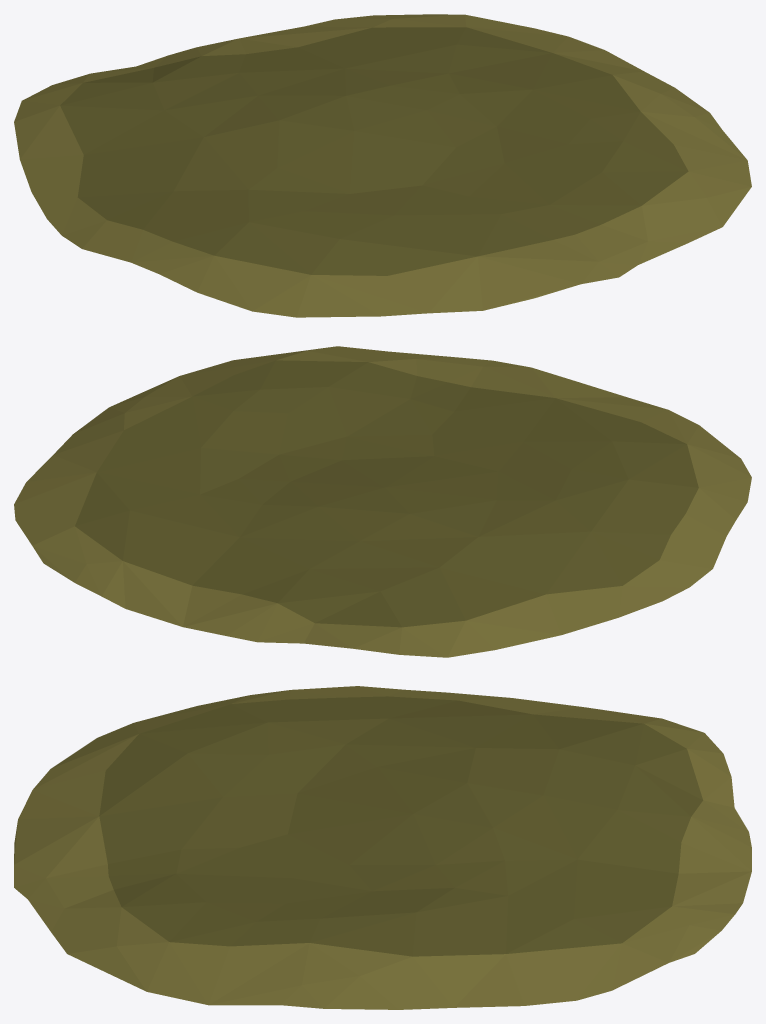
File: EA_M_Env_Grass_06a.fbx
3 views of the same model, one above another, from view 1: azimuth 30°, elevation 25°; view 2: azimuth 150°, elevation 25°; view 3: azimuth 270°, elevation 25° (orthographic). The views are drawn at different scales.
Visible parts, largest first — view 1: EA_M_Env_Grass_06a_LOD0; view 2: EA_M_Env_Grass_06a_LOD0; view 3: EA_M_Env_Grass_06a_LOD0.
Part boxes in pixels (bbox=[...]): EA_M_Env_Grass_06a_LOD0: bbox=[14, 14, 751, 317]; EA_M_Env_Grass_06a_LOD0: bbox=[14, 346, 751, 657]; EA_M_Env_Grass_06a_LOD0: bbox=[14, 686, 751, 1009].
Size of what is drawn, in the model's own units: 7.17 by 0.418 by 6.95.
